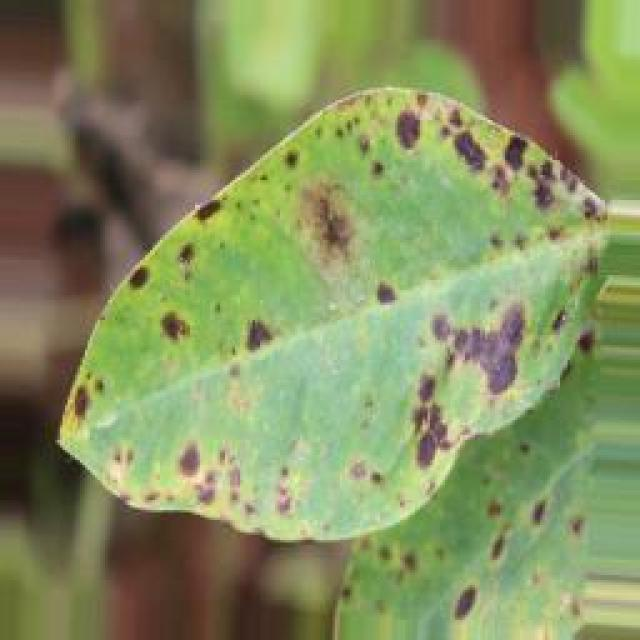Yellowish: (51, 73, 608, 640)
